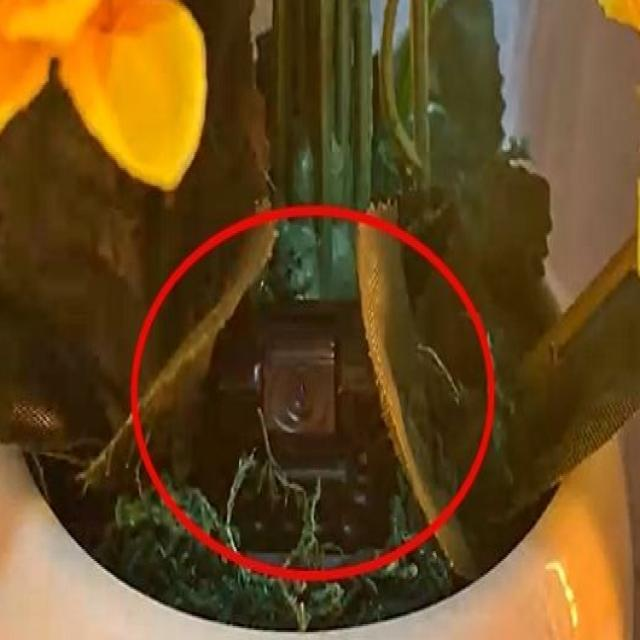hidden camera: (289, 373, 314, 411)
